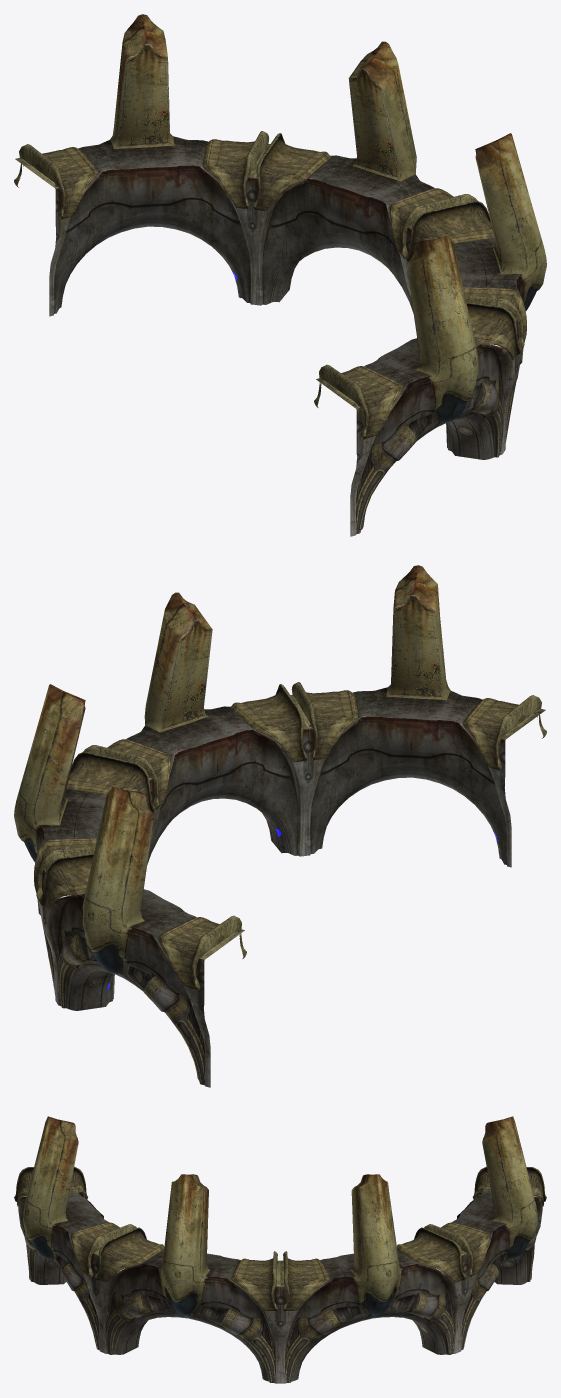
Rendered from SM_Cave_Arches.1898dbb1.glb.
3 renders of one model, top to bottom at view 1: azimuth 30°, elevation 25°; view 2: azimuth 150°, elevation 25°; view 3: azimuth 270°, elevation 25°, orthographic. The views are drawn at different scales.
Parts seen in each view (by area): view 1: SM_Cave_Arches; view 2: SM_Cave_Arches; view 3: SM_Cave_Arches.
Part boxes in pixels (x1=…): SM_Cave_Arches: x1=14, y1=14, x2=546, y2=536; SM_Cave_Arches: x1=14, y1=565, x2=546, y2=1087; SM_Cave_Arches: x1=14, y1=1116, x2=546, y2=1383.
Bounding box in the file's own units: 27.7 × 23.07 × 55.4.
2 materials, 2 textured.
